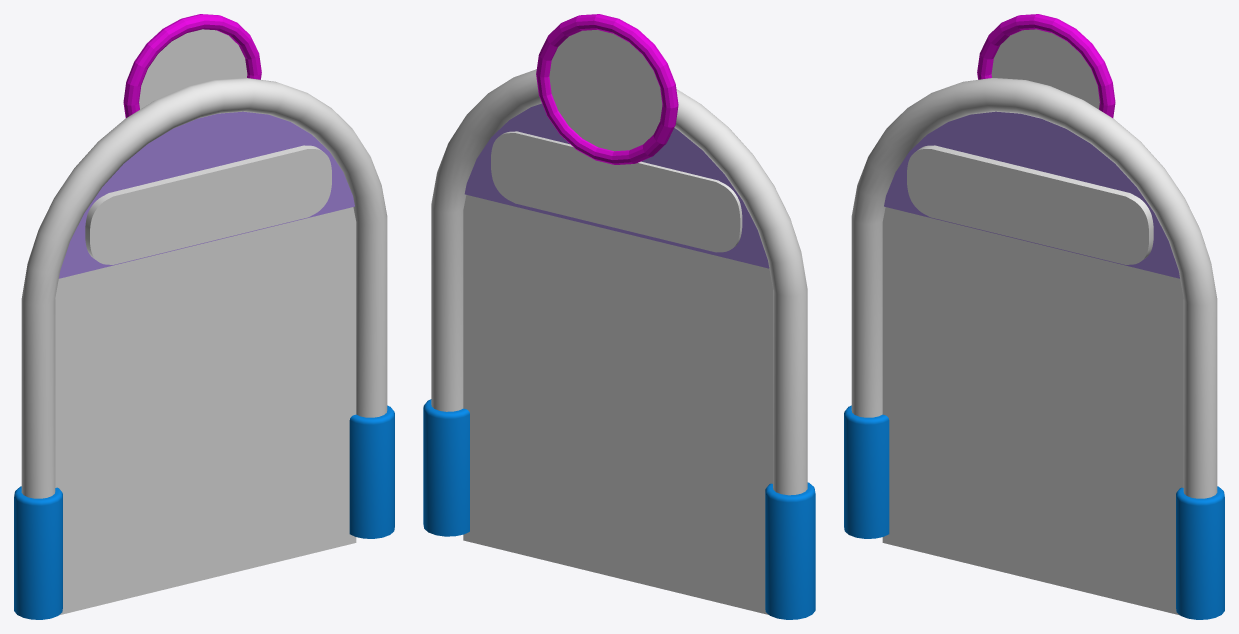
Rendered from Gate2.fbx.
3 renders of one model, left to right at view 1: azimuth 30°, elevation 25°; view 2: azimuth 150°, elevation 25°; view 3: azimuth 330°, elevation 25°, orthographic. The views are drawn at different scales.
Parts seen in each view (by area): view 1: foog, Gate, foog .002, Signboard.002, Signboard; view 2: foog, Gate, foog .002, Signboard.002, Signboard; view 3: foog, Gate, foog .002, Signboard.002, Signboard.
Part boxes in pixels (x1,y1,x2,y2): foog: (55,207,356,615); Gate: (14,78,394,619); foog .002: (59,111,354,278); Signboard.002: (139,29,247,109); Signboard: (123,14,261,117); foog: (463,195,772,614); Gate: (423,69,815,619); foog .002: (464,103,769,268); Signboard.002: (549,30,662,151); Signboard: (536,14,678,164); foog: (882,207,1183,615); Gate: (844,78,1224,619); foog .002: (884,111,1179,278); Signboard.002: (991,29,1099,109); Signboard: (977,14,1115,117).
Bounding box in the file's own units: 234 × 331 × 30.37.
